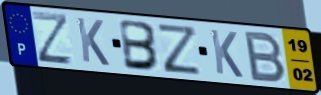B: (243, 29, 288, 84), (118, 18, 162, 73)
K: (74, 16, 112, 68), (208, 27, 245, 80)
Z: (155, 21, 203, 77), (30, 10, 75, 66)
